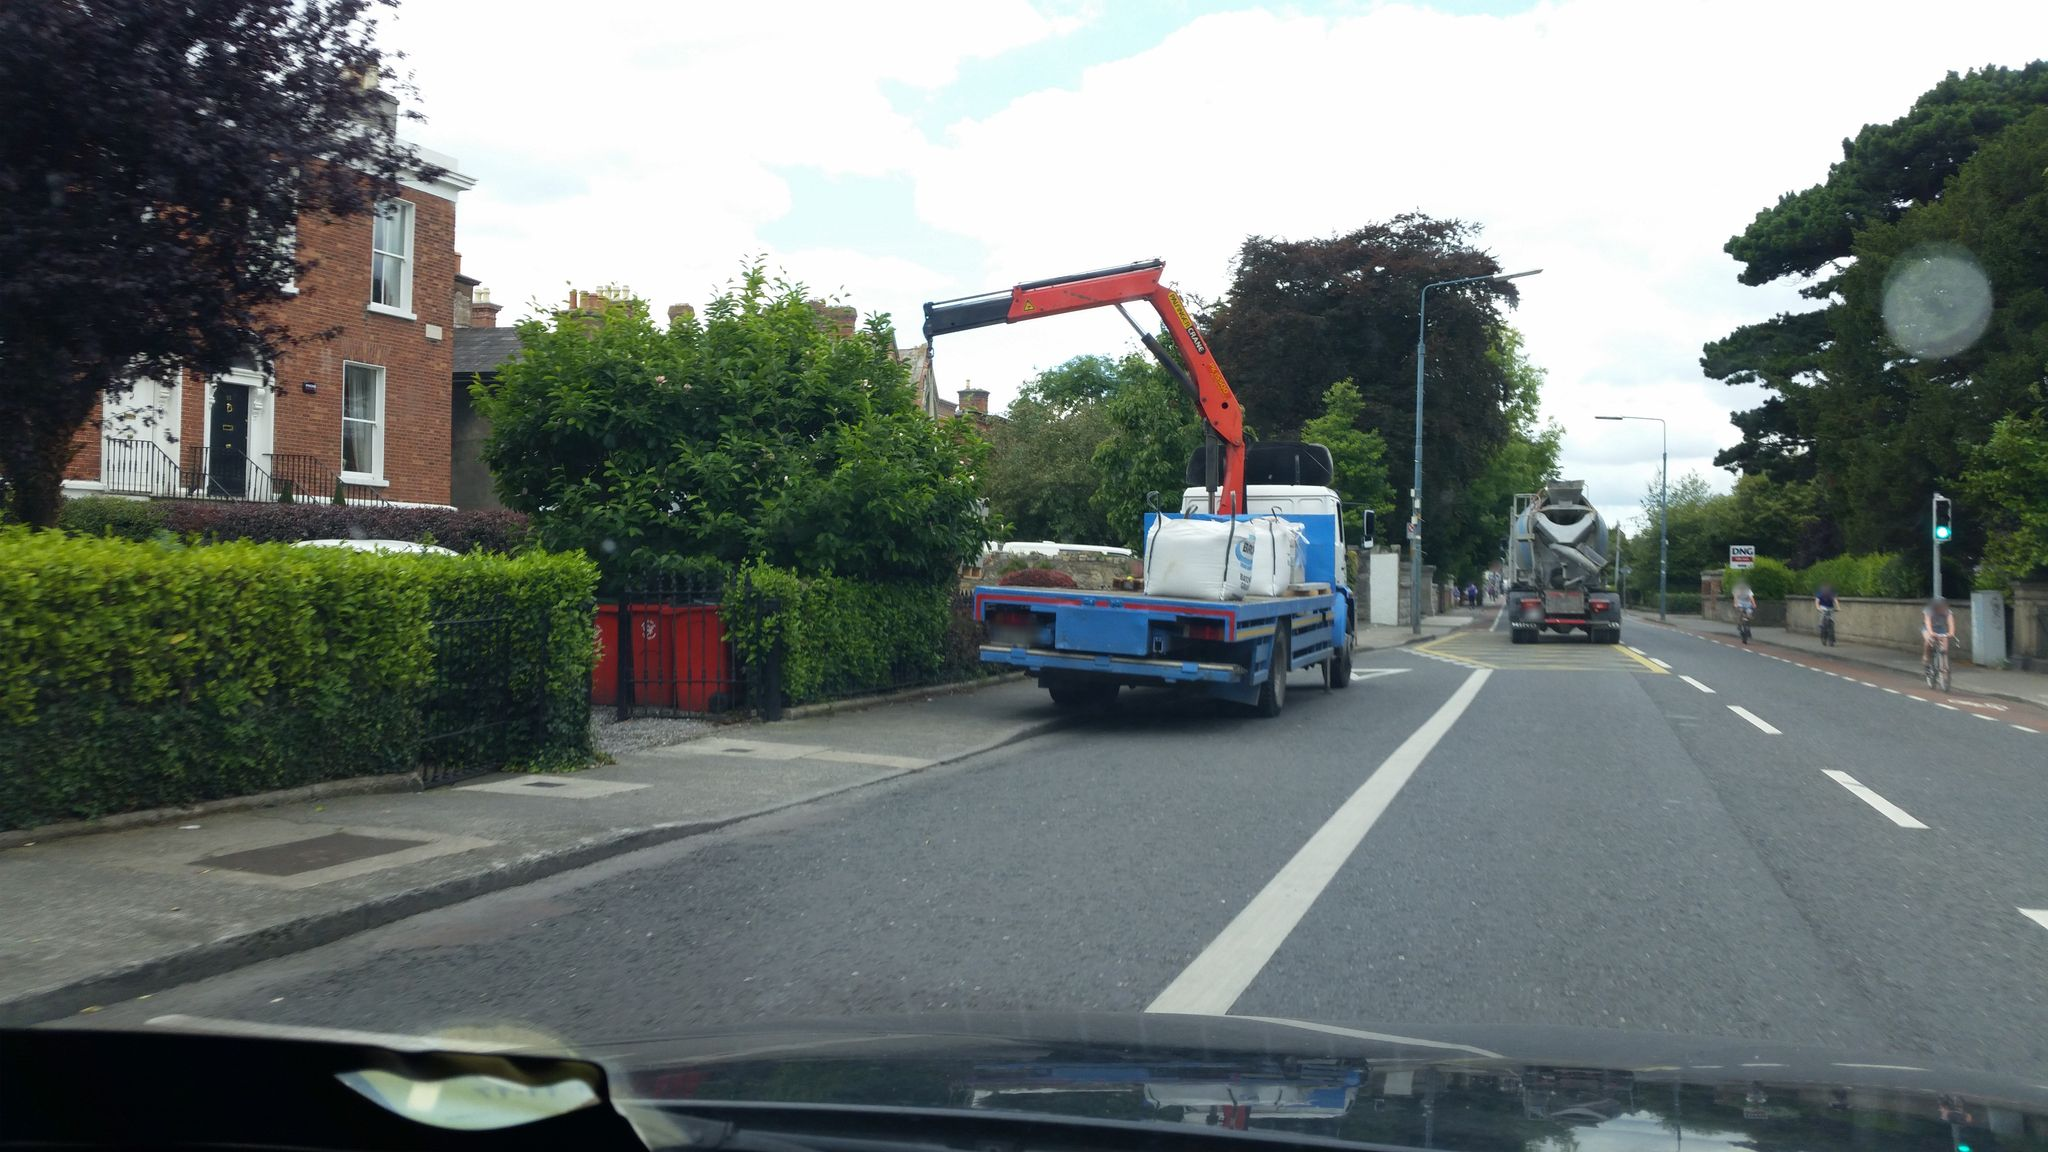property sign: (1726, 530, 1762, 575)
